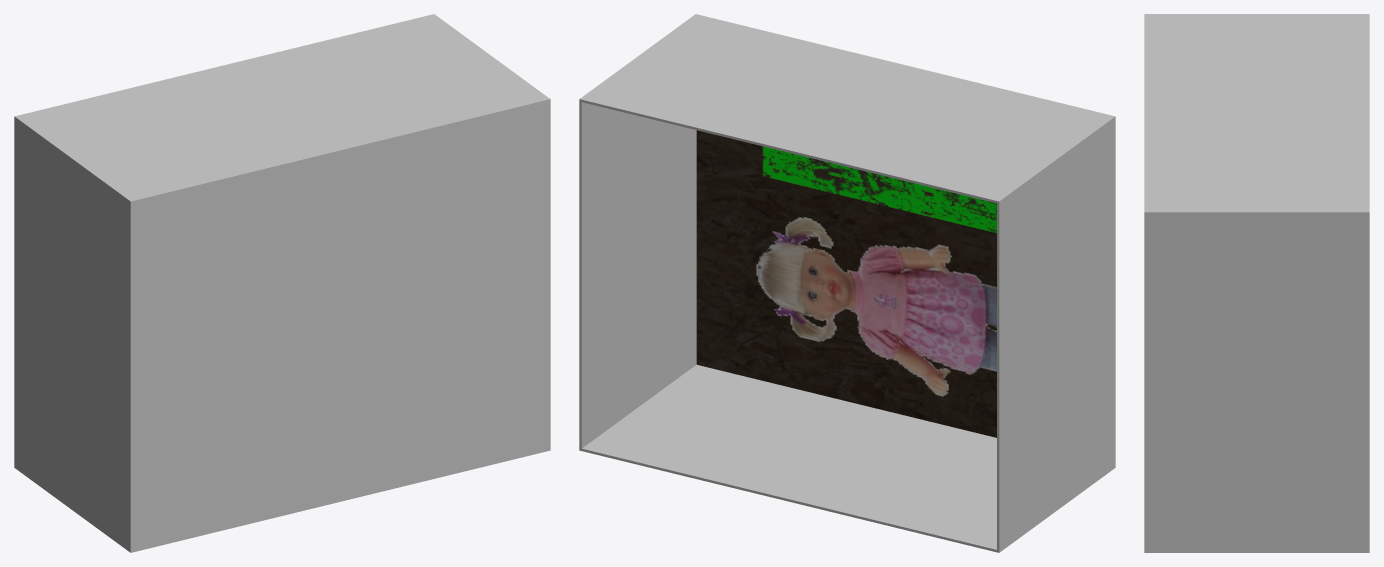
The model's file is victim_with_box_c.dae.
3 views of the same model, side by side, from view 1: azimuth 30°, elevation 25°; view 2: azimuth 150°, elevation 25°; view 3: azimuth 270°, elevation 25° (orthographic). The views are drawn at different scales.
Visible parts, largest first — view 1: Cube; view 2: Cube; view 3: Cube.
Boxes of the visible parts, box(x1,y1,x2,y2) form: Cube: box(14, 14, 550, 552); Cube: box(579, 14, 1115, 552); Cube: box(1144, 14, 1369, 552).
Size of the model in its own units: 0.5 by 0.24 by 0.4.
